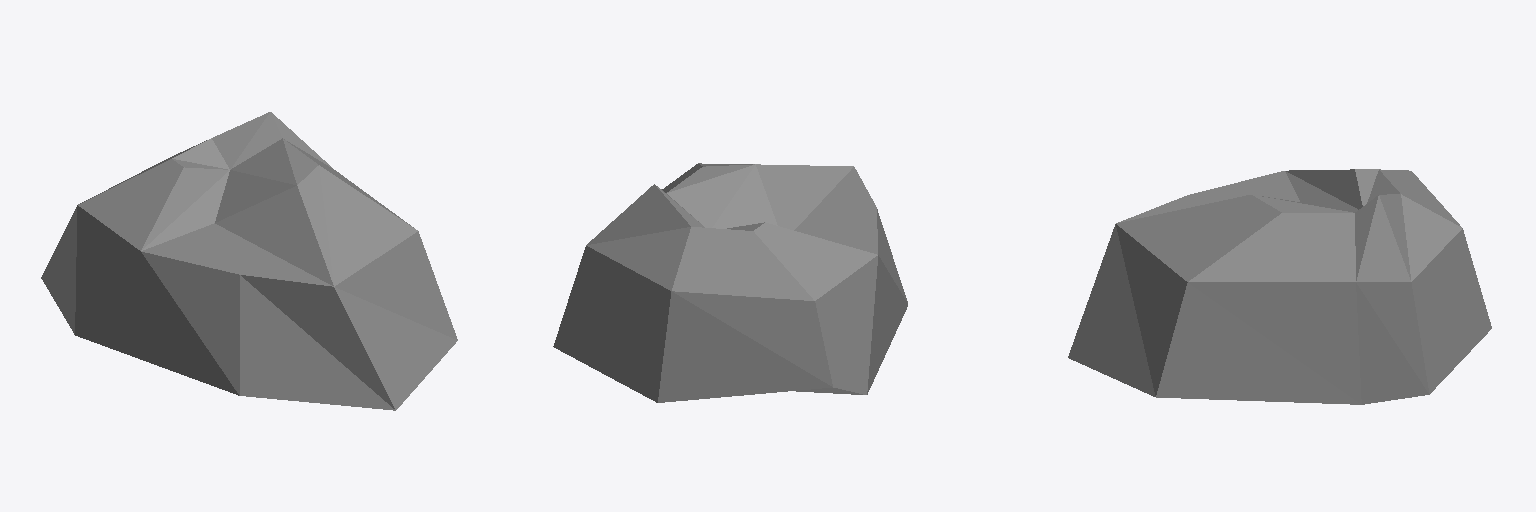
File: stone_little_01.obj
3 renders of one model, left to right at view 1: azimuth 30°, elevation 25°; view 2: azimuth 150°, elevation 25°; view 3: azimuth 270°, elevation 25°, orthographic.
Size of the model in its own units: 0.6073 by 0.384 by 0.7971.